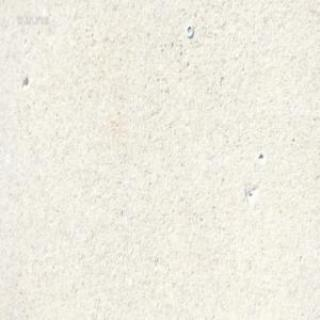Washertrack_idkeyframe: (185, 22, 192, 37)
